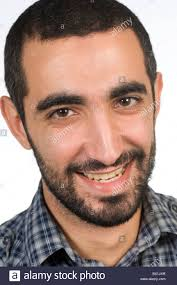middle_eastern_male: (6, 18, 168, 218)
